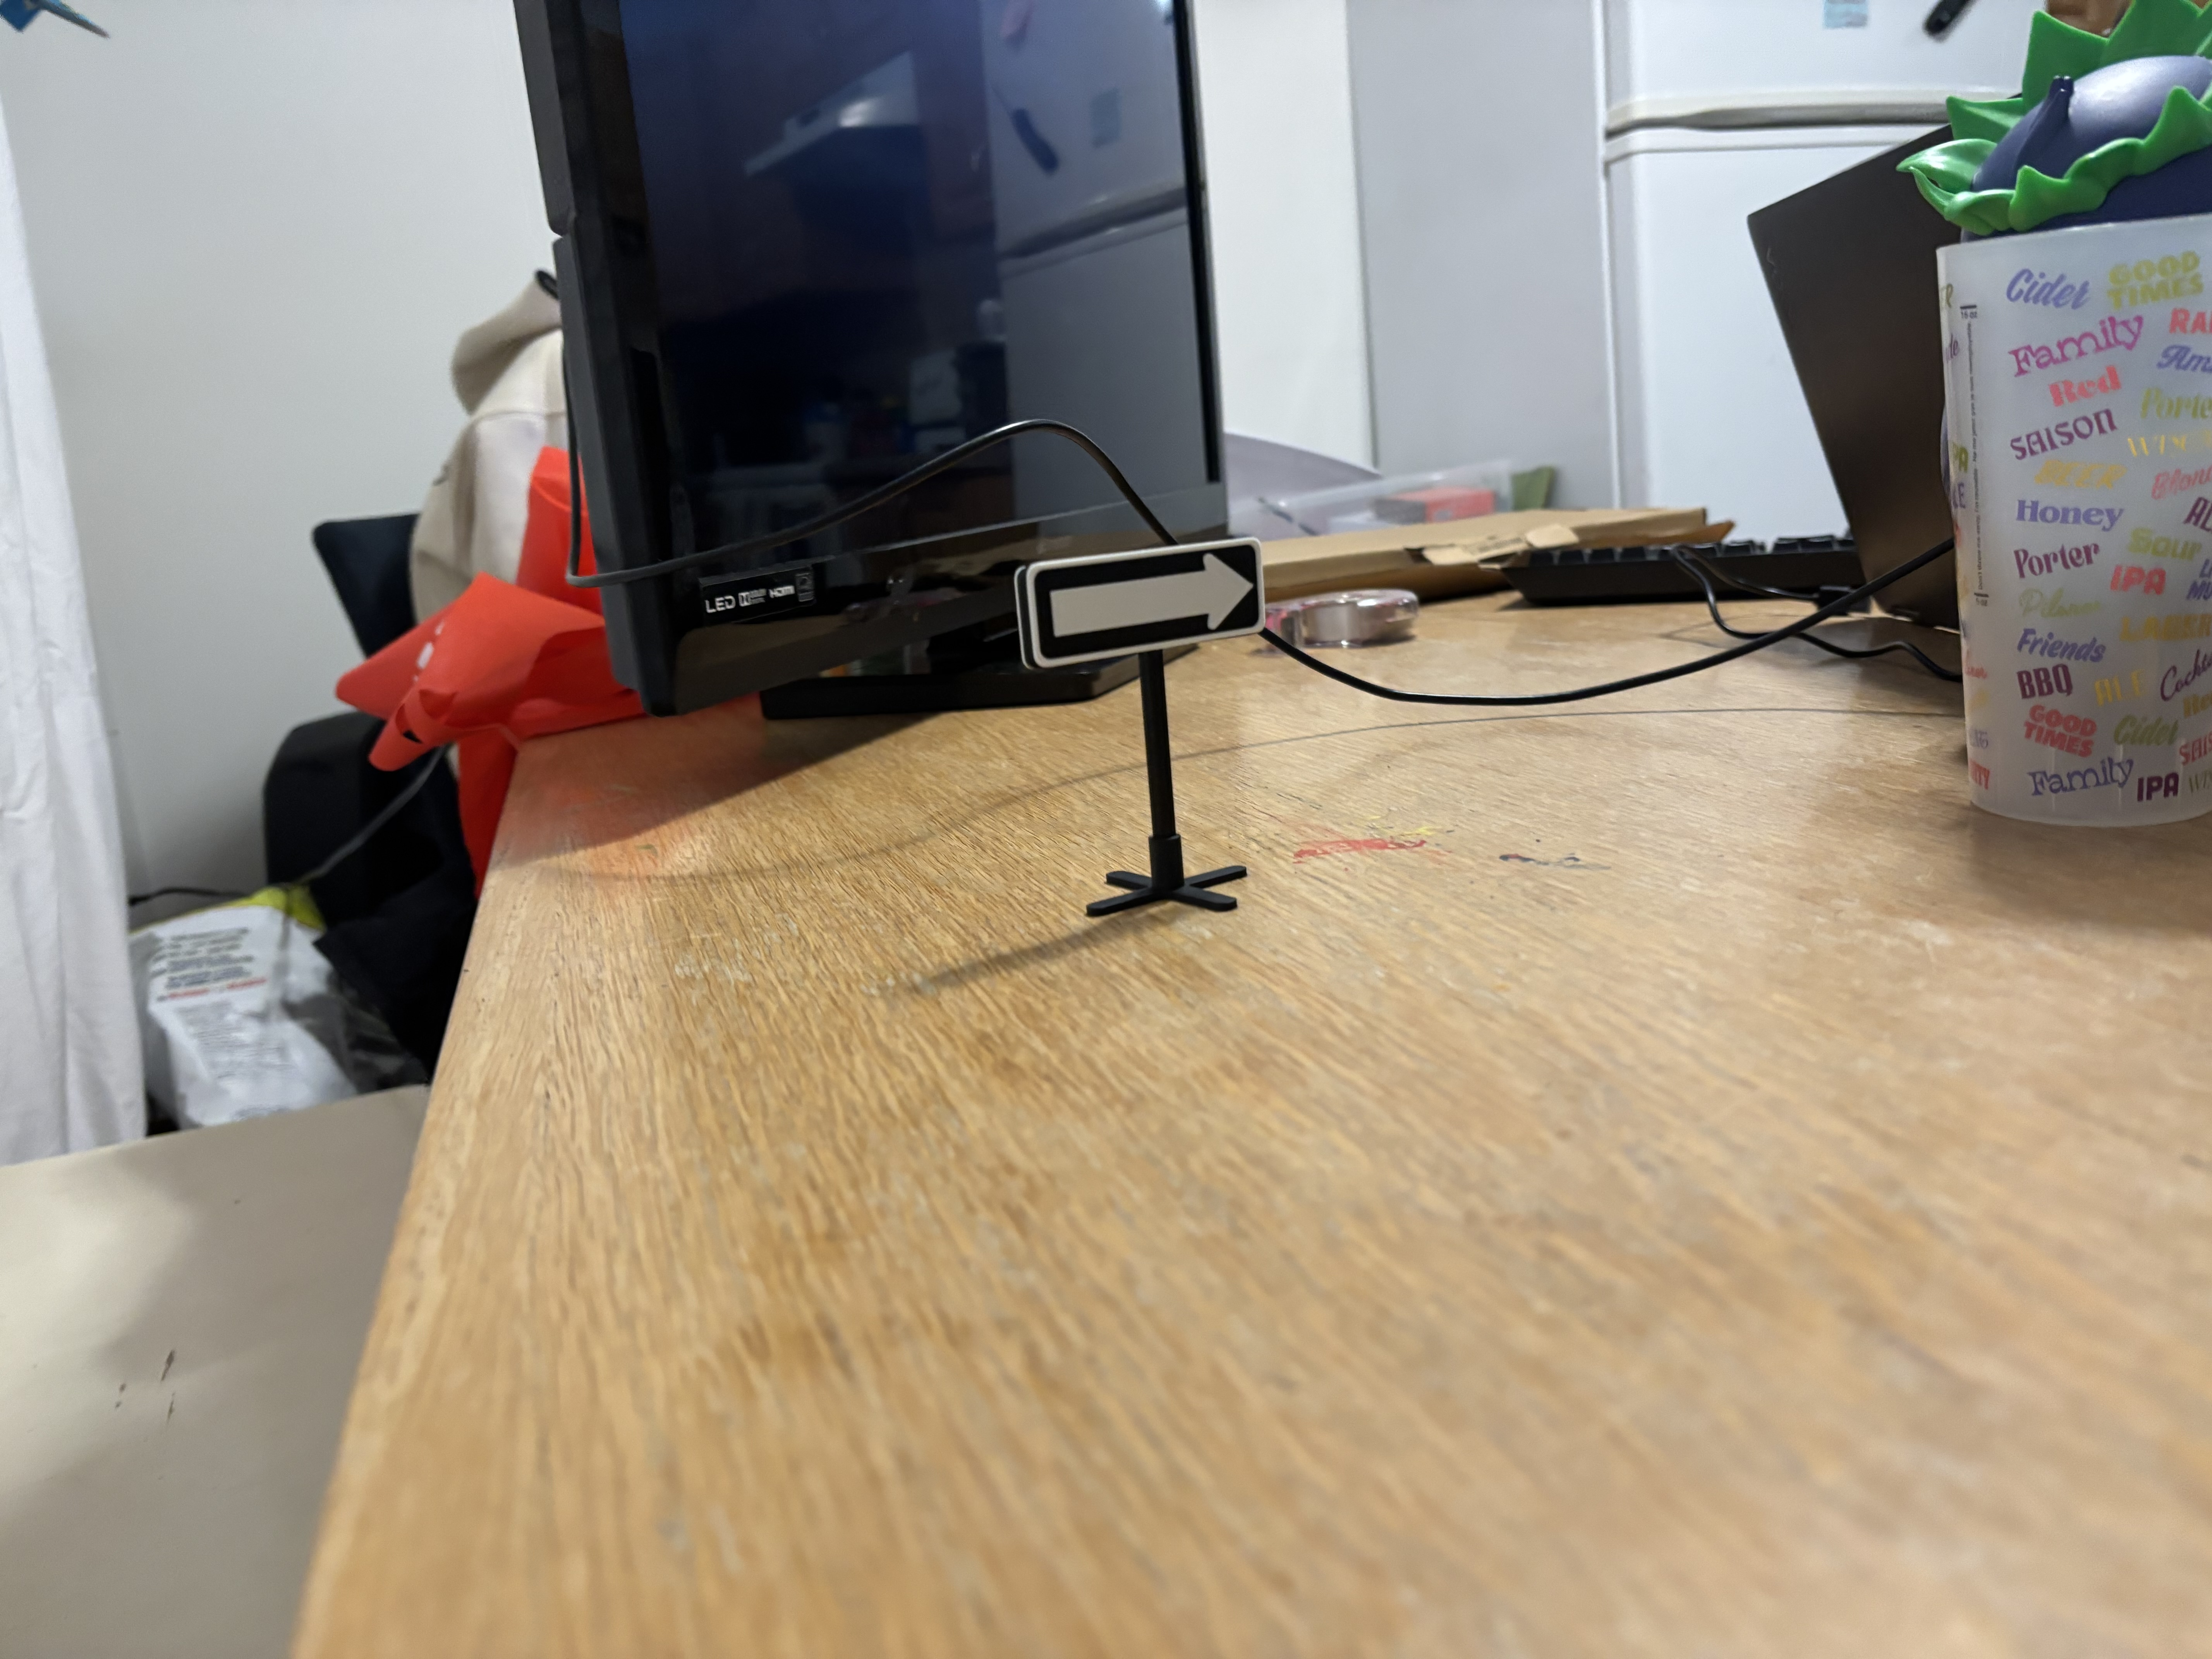sign_oneway_right: (1015, 538, 1284, 666)
